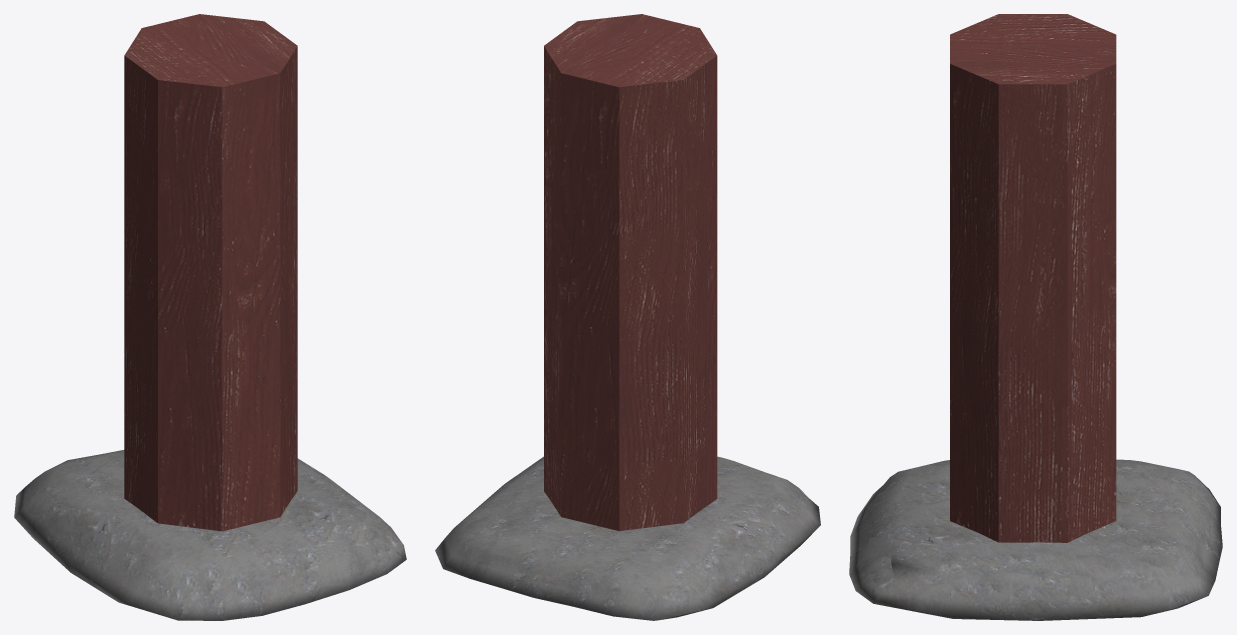
Rendered from SM_Song_Jong_Pillar_B.fbx.
The picture shows the model from 3 angles, left to right: view 1: azimuth 30°, elevation 25°; view 2: azimuth 150°, elevation 25°; view 3: azimuth 270°, elevation 25°; orthographic projection. The views are drawn at different scales.
Visible parts, largest first — view 1: SM_Song_Jong_Pillar_B; view 2: SM_Song_Jong_Pillar_B; view 3: SM_Song_Jong_Pillar_B.
Boxes of the visible parts, x1,y1,x2,y2 form: SM_Song_Jong_Pillar_B: (14,14,406,620); SM_Song_Jong_Pillar_B: (435,14,820,620); SM_Song_Jong_Pillar_B: (849,14,1222,620).
Size of the model in its own units: 91.13 by 155 by 104.
